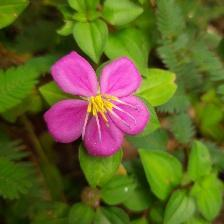malabar melastome: (42, 51, 152, 162)
